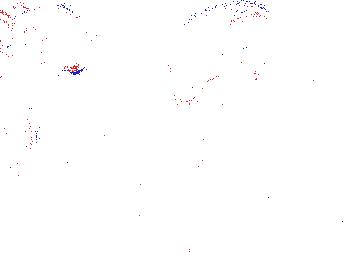moon jellyfish: (168, 1, 270, 104), (113, 130, 206, 191), (1, 4, 96, 58), (1, 84, 38, 171)
